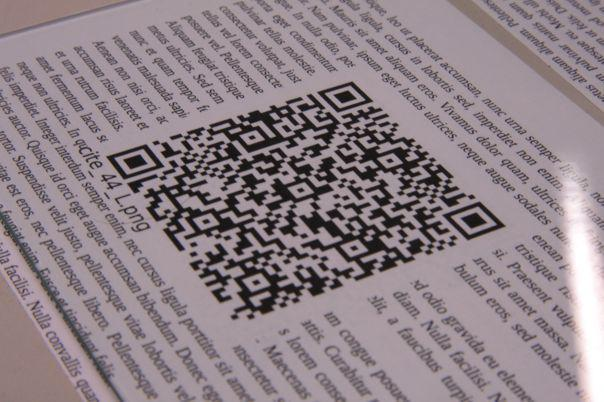Finder pattern: (443, 201, 509, 244), (318, 81, 372, 114), (107, 147, 163, 178)
